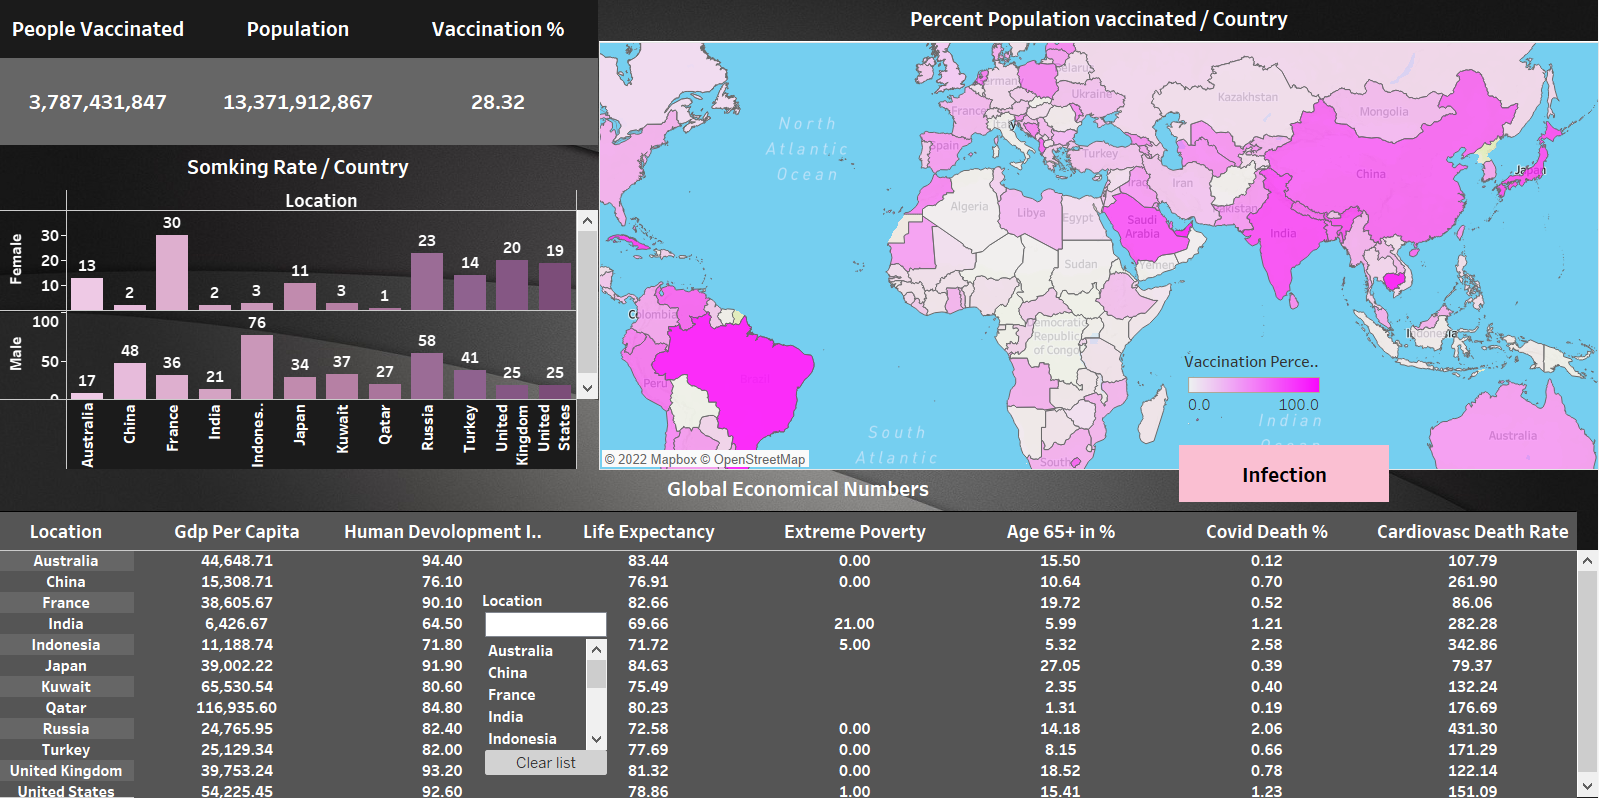

This screenshot's page, from the dashboard's own definition file:
{"tool":"tableau","page":{"name":"Dashboard 2","canvas":[1600,800],"ordinal":1},"visuals":[{"type":"image","param":"Image/grey.jpg","box":[0,0,1600,800]},{"type":"worksheet","title":"KPI Vacc","mark":"Automatic","box":[0,0,600,147]},{"type":"worksheet","title":"VaccMap3","mark":"Automatic","box":[601,2,1000,470]},{"type":"worksheet","title":"Smokers","mark":"Automatic","rows":["female_smokers 1","male_smokers"],"cols":["location"],"box":[0,150,600,323]},{"type":"legend","title":"VaccMap3","param":"[federated.0w0ggca12o5f6116nmzzf1vkexxt].[sum:vaccination_percent 2:qk]","box":[1186,353,140,88]},{"type":"dashboard-object","box":[1181,447,210,57]},{"type":"worksheet","title":"HDI","mark":"Automatic","rows":["location"],"box":[0,472,1600,328]},{"type":"filter","title":"Smokers","param":"[federated.0ber3ut1o9eb2k10g2fka0xggoex].[none:location:nk]","box":[484,592,128,188]}]}

Visuals, with their boxes in screenshot pixels (x1, y1, x2, y2), scaled from the page's 1600x800 canvas onto the 1599x798 screenshot:
image: bbox=[0, 0, 1598, 797]
"KPI Vacc" worksheet: bbox=[0, 0, 600, 147]
"VaccMap3" worksheet: bbox=[601, 2, 1598, 471]
"Smokers" worksheet: bbox=[0, 150, 600, 472]
"VaccMap3" legend: bbox=[1185, 352, 1325, 440]
dashboard-object: bbox=[1180, 446, 1390, 503]
"HDI" worksheet: bbox=[0, 471, 1598, 797]
"Smokers" filter: bbox=[484, 591, 612, 778]
